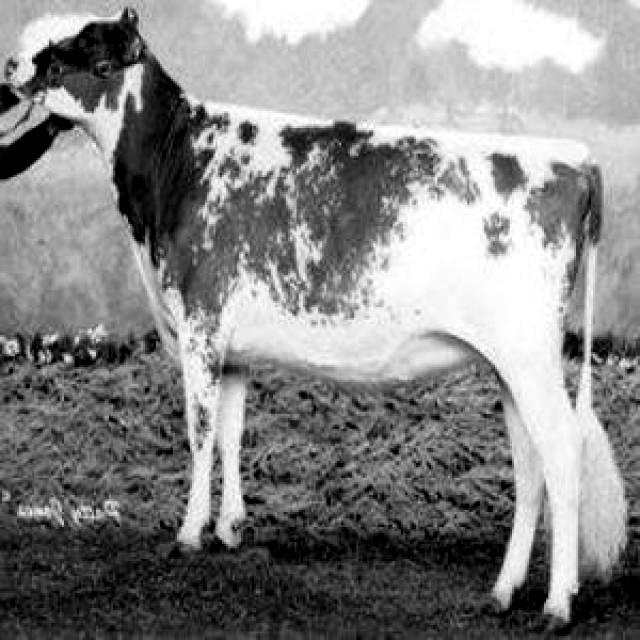COW: (8, 9, 626, 630)
